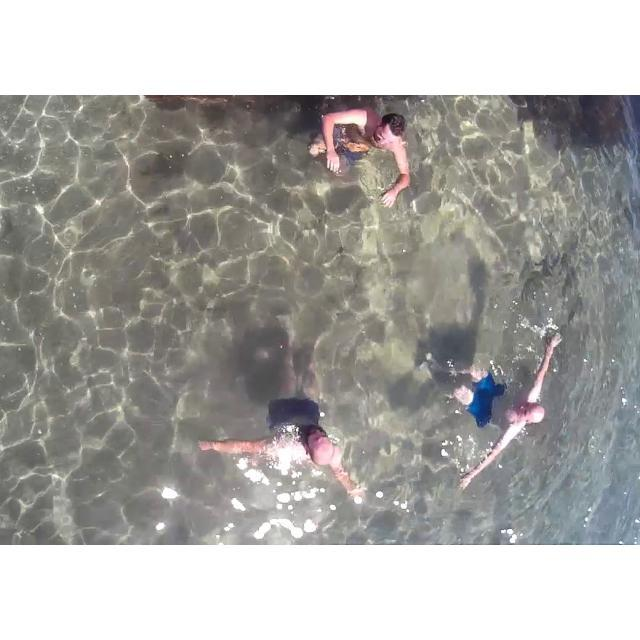human: (470, 310, 561, 498), (211, 396, 369, 487), (306, 96, 414, 219)
